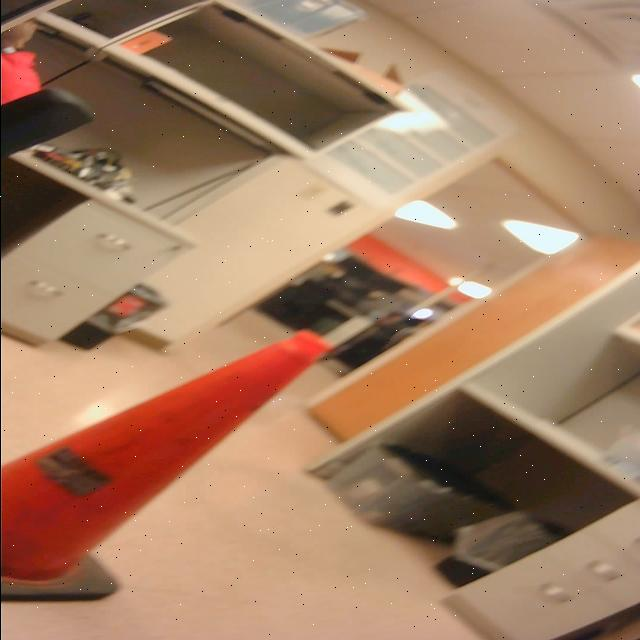traffic cone: (1, 327, 340, 608)
